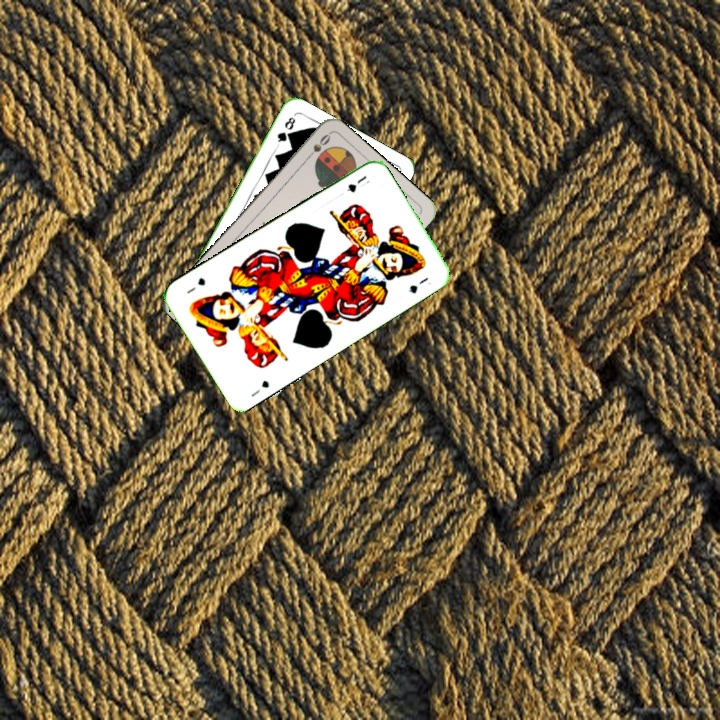G8: (273, 113, 298, 149)
GU: (343, 171, 369, 195), (247, 376, 272, 400)
SO: (301, 130, 333, 163)
